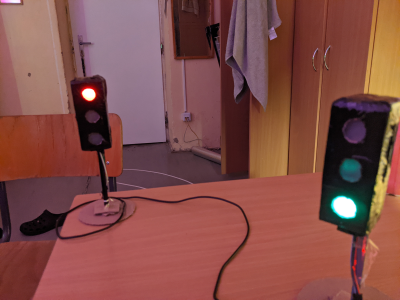trafficlight_green: (318, 107, 373, 227)
trafficlight_red: (76, 80, 108, 147)
